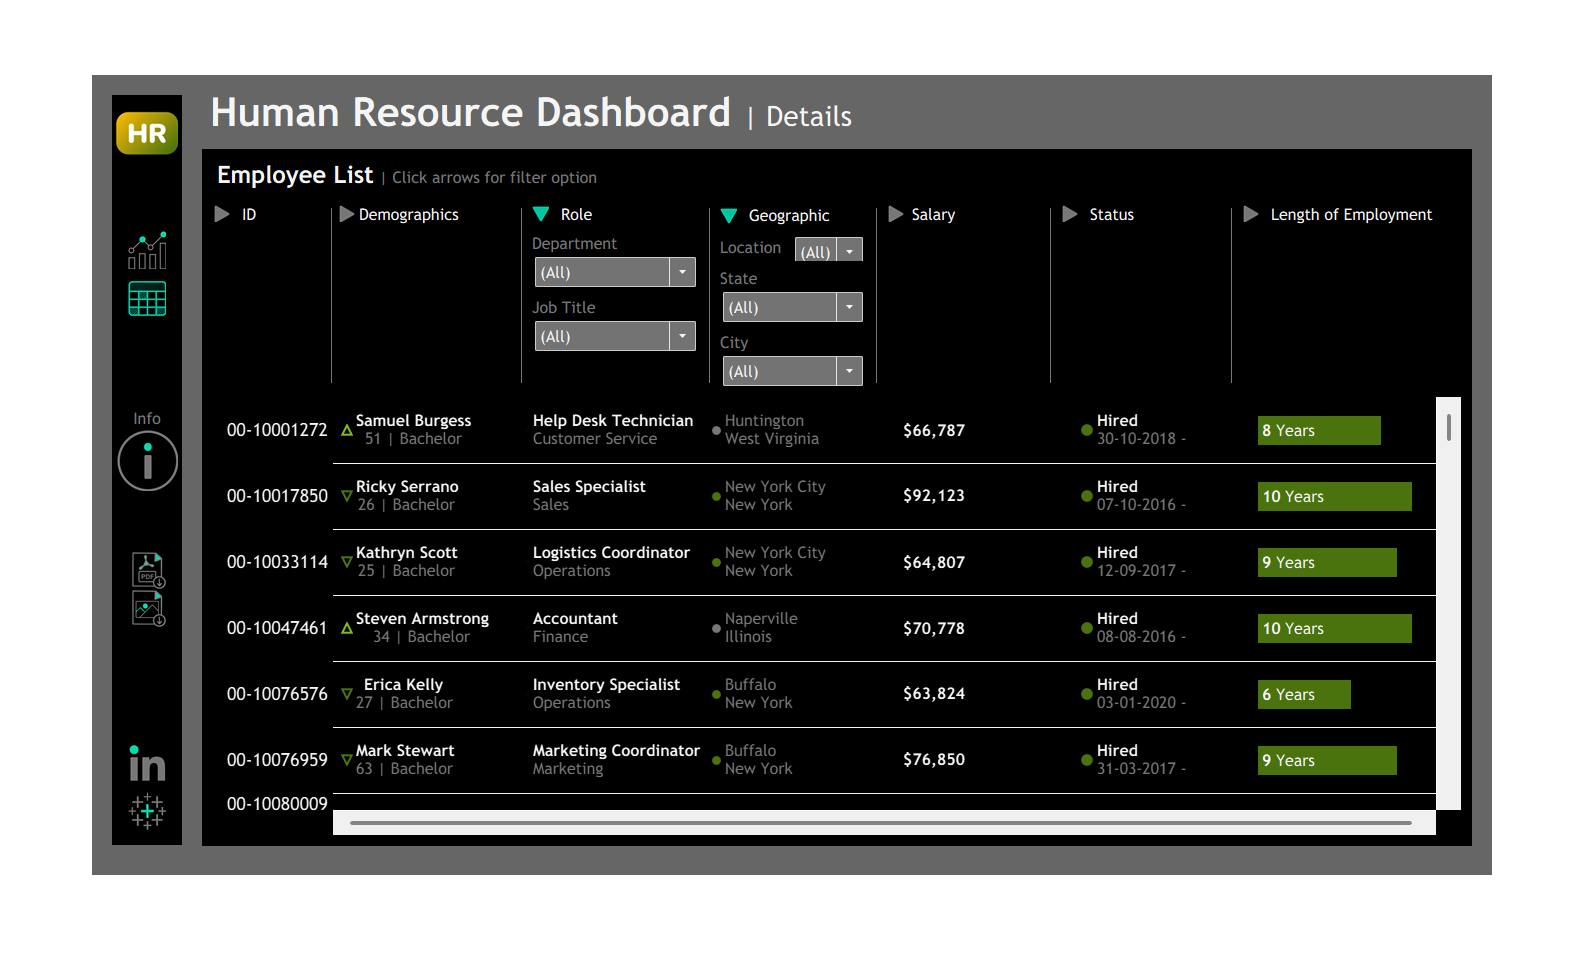

Layout of this report page (visuals, bound fields, positions):
{"tool":"tableau","page":{"name":"HR Details","canvas":[1400,800],"ordinal":1},"visuals":[{"type":"text","box":[110,0,823,73]},{"type":"blank","box":[933,0,447,73]},{"type":"image","param":"Image/croatia.png","box":[20,20,70,76]},{"type":"text","box":[117,81,1256,42]},{"type":"blank","box":[20,96,70,60]},{"type":"dashboard-object","box":[117,123,25,32]},{"type":"text","box":[142,123,91,32]},{"type":"blank","box":[233,123,13,195]},{"type":"dashboard-object","box":[246,123,17,32]},{"type":"text","box":[263,123,160,32]},{"type":"blank","box":[423,123,13,195]},{"type":"dashboard-object","box":[436,123,25,32]},{"type":"text","box":[461,123,150,32]},{"type":"blank","box":[611,123,13,195]},{"type":"dashboard-object","box":[624,123,25,35]},{"type":"text","box":[649,123,129,35]},{"type":"blank","box":[778,123,13,195]},{"type":"dashboard-object","box":[791,123,25,32]},{"type":"text","box":[816,123,136,32]},{"type":"blank","box":[952,123,13,195]},{"type":"dashboard-object","box":[965,123,25,32]},{"type":"text","box":[990,123,143,32]},{"type":"blank","box":[1133,123,13,195]},{"type":"dashboard-object","box":[1146,123,25,32]},{"type":"text","box":[1170.9,123,184,32]},{"type":"filter","title":"Detailed","param":"[federated.0q2gh4h1n235b5190az610rpepij].[none:Employee_ID:nk]","box":[117,155,116,64]},{"type":"filter","title":"Detailed","param":"[federated.0q2gh4h1n235b5190az610rpepij].[none:Calculation_1141585468923906:nk]","box":[246,155,177,64]},{"type":"filter","title":"Detailed","param":"[federated.0q2gh4h1n235b5190az610rpepij].[none:Department:nk]","box":[436,155,175,64]},{"type":"filter","title":"Detailed","param":"[federated.0q2gh4h1n235b5190az610rpepij].[sum:Salary:qk]","box":[791,155,161,71]},{"type":"filter","title":"Detailed","param":"[federated.0q2gh4h1n235b5190az610rpepij].[none:Calculation_1919764739563520:nk]","box":[965,155,168,64]},{"type":"filter","title":"Detailed","param":"[federated.0q2gh4h1n235b5190az610rpepij].[sum:Calculation_1141585477132291:qk]","box":[1146,155,209,71]},{"type":"dashboard-object","box":[20,156,70,38]},{"type":"filter","title":"Detailed","param":"[federated.0q2gh4h1n235b5190az610rpepij].[none:Calculation_1044828008271874:nk]","box":[624,158,154,32]},{"type":"filter","title":"Detailed","param":"[federated.0q2gh4h1n235b5190az610rpepij].[none:State:nk]","box":[624,190,154,64]},{"type":"blank","box":[20,194,70,10]},{"type":"dashboard-object","box":[20,204,70,38]},{"type":"filter","title":"Detailed","param":"[federated.0q2gh4h1n235b5190az610rpepij].[none:Gender:nk]","box":[246,219,177,64]},{"type":"filter","title":"Detailed","param":"[federated.0q2gh4h1n235b5190az610rpepij].[none:Job Title:nk]","box":[436,219,175,64]},{"type":"filter","title":"Detailed","param":"[federated.0q2gh4h1n235b5190az610rpepij].[none:Hiredate:ok]","box":[965,219,168,61]},{"type":"blank","box":[20,242,70,85]},{"type":"filter","title":"Detailed","param":"[federated.0q2gh4h1n235b5190az610rpepij].[none:City:nk]","box":[624,254,154,64]},{"type":"filter","title":"Detailed","param":"[federated.0q2gh4h1n235b5190az610rpepij].[none:Termdate:ok]","box":[965,280,168,64]},{"type":"filter","title":"Detailed","param":"[federated.0q2gh4h1n235b5190az610rpepij].[none:Calculation_0624264885260291:nk]","box":[246,283,177,64]},{"type":"worksheet","title":"Detailed","mark":"Shape","rows":["Employee_ID"],"cols":["Calculation_1141585468502017","Calculation_1141585468502017","Calculation_1141585468502017","Calculation_1141585468502017","Calculation_1141585468502017","Calculation_1141585477132291"],"box":[117,318,1256,446]},{"type":"text","box":[20,327,70,32]},{"type":"filter","title":"Detailed","param":"[federated.0q2gh4h1n235b5190az610rpepij].[none:Education Level:nk]","box":[246,347,177,64]},{"type":"dashboard-object","box":[25,348,61,75]},{"type":"blank","box":[20,359,70,107]},{"type":"dashboard-object","box":[30,476,50,38]},{"type":"dashboard-object","box":[30,514,50,38]},{"type":"blank","box":[30,552,50,117]},{"type":"image","param":"Image/contact-linkedin.png","box":[30,669,50,38]},{"type":"image","param":"Image/contact-public.png","box":[20,717,70,38]}]}

Visuals, with their boxes on the page's 1400x800 design canvas (x1, y1, x2, y2). These are canvas units, not pixel positions in the 1588x954 screenshot, which may show the page scaled, cropped or inside an application window:
text: l=110, t=0, r=933, b=73
blank: l=933, t=0, r=1380, b=73
image: l=20, t=20, r=90, b=96
text: l=117, t=81, r=1373, b=123
blank: l=20, t=96, r=90, b=156
dashboard-object: l=117, t=123, r=142, b=155
text: l=142, t=123, r=233, b=155
blank: l=233, t=123, r=246, b=318
dashboard-object: l=246, t=123, r=263, b=155
text: l=263, t=123, r=423, b=155
blank: l=423, t=123, r=436, b=318
dashboard-object: l=436, t=123, r=461, b=155
text: l=461, t=123, r=611, b=155
blank: l=611, t=123, r=624, b=318
dashboard-object: l=624, t=123, r=649, b=158
text: l=649, t=123, r=778, b=158
blank: l=778, t=123, r=791, b=318
dashboard-object: l=791, t=123, r=816, b=155
text: l=816, t=123, r=952, b=155
blank: l=952, t=123, r=965, b=318
dashboard-object: l=965, t=123, r=990, b=155
text: l=990, t=123, r=1133, b=155
blank: l=1133, t=123, r=1146, b=318
dashboard-object: l=1146, t=123, r=1171, b=155
text: l=1171, t=123, r=1355, b=155
"Detailed" filter: l=117, t=155, r=233, b=219
"Detailed" filter: l=246, t=155, r=423, b=219
"Detailed" filter: l=436, t=155, r=611, b=219
"Detailed" filter: l=791, t=155, r=952, b=226
"Detailed" filter: l=965, t=155, r=1133, b=219
"Detailed" filter: l=1146, t=155, r=1355, b=226
dashboard-object: l=20, t=156, r=90, b=194
"Detailed" filter: l=624, t=158, r=778, b=190
"Detailed" filter: l=624, t=190, r=778, b=254
blank: l=20, t=194, r=90, b=204
dashboard-object: l=20, t=204, r=90, b=242
"Detailed" filter: l=246, t=219, r=423, b=283
"Detailed" filter: l=436, t=219, r=611, b=283
"Detailed" filter: l=965, t=219, r=1133, b=280
blank: l=20, t=242, r=90, b=327
"Detailed" filter: l=624, t=254, r=778, b=318
"Detailed" filter: l=965, t=280, r=1133, b=344
"Detailed" filter: l=246, t=283, r=423, b=347
"Detailed" worksheet (Shape marks): l=117, t=318, r=1373, b=764
text: l=20, t=327, r=90, b=359
"Detailed" filter: l=246, t=347, r=423, b=411
dashboard-object: l=25, t=348, r=86, b=423
blank: l=20, t=359, r=90, b=466
dashboard-object: l=30, t=476, r=80, b=514
dashboard-object: l=30, t=514, r=80, b=552
blank: l=30, t=552, r=80, b=669
image: l=30, t=669, r=80, b=707
image: l=20, t=717, r=90, b=755
